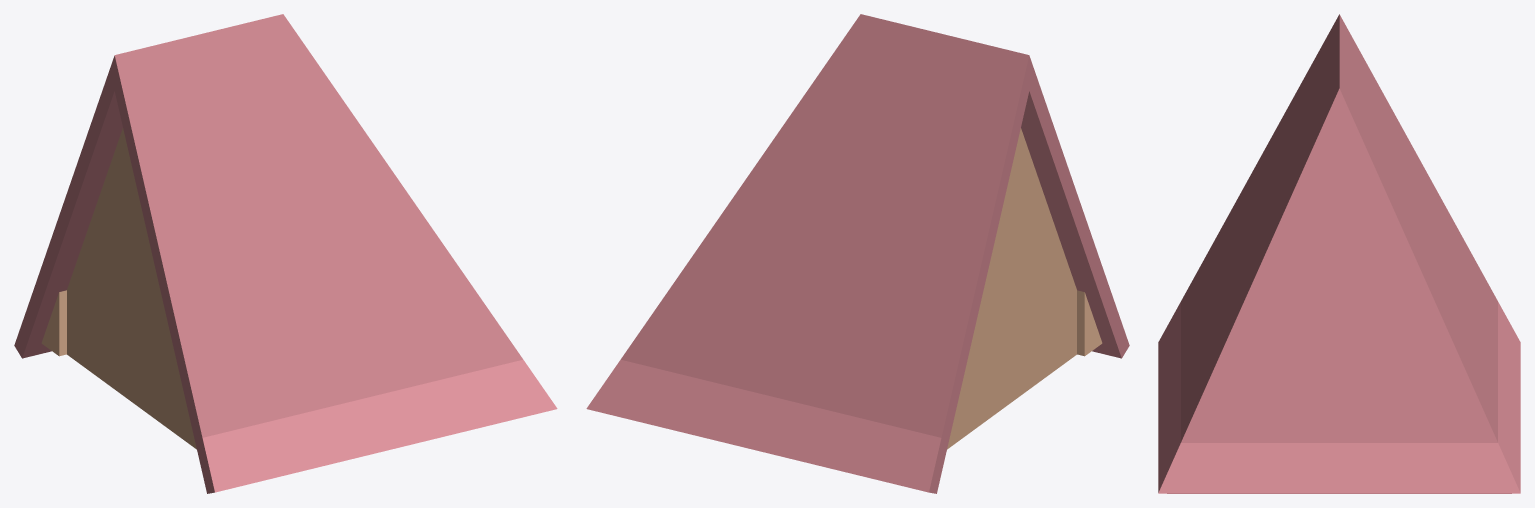
File: roofHighGableEnd.glb
3 renders of one model, left to right at view 1: azimuth 30°, elevation 25°; view 2: azimuth 150°, elevation 25°; view 3: azimuth 270°, elevation 25°, orthographic. The views are drawn at different scales.
Visible parts, largest first — view 1: roofHighGableEnd; view 2: roofHighGableEnd; view 3: roofHighGableEnd.
Part boxes in pixels (box(x1,y1,x2,y2)): roofHighGableEnd: box(14, 14, 557, 493); roofHighGableEnd: box(586, 14, 1129, 493); roofHighGableEnd: box(1158, 14, 1520, 493).
Size of the model in its own units: 1.12 by 1.16 by 1.13.
